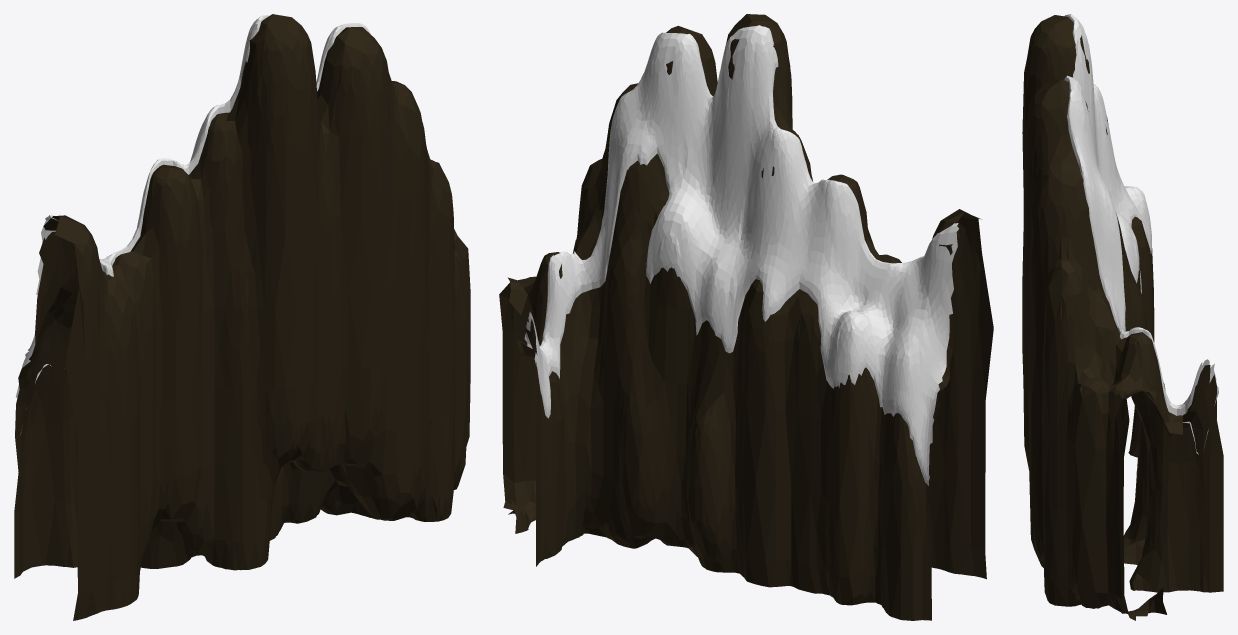
File: Mtn_Wall_N3_M.fbx
3 views of the same model, side by side, from view 1: azimuth 30°, elevation 25°; view 2: azimuth 150°, elevation 25°; view 3: azimuth 270°, elevation 25° (orthographic). The views are drawn at different scales.
Parts seen in each view (by area): view 1: Mtn_Wall_N3_M; view 2: Mtn_Wall_N3_M; view 3: Mtn_Wall_N3_M.
Boxes of the visible parts, x1=… form: Mtn_Wall_N3_M: x1=14, y1=14, x2=470, y2=620; Mtn_Wall_N3_M: x1=499, y1=14, x2=993, y2=620; Mtn_Wall_N3_M: x1=1022, y1=14, x2=1223, y2=620.
Size of the model in its own units: 20344 by 22894 by 8203.
